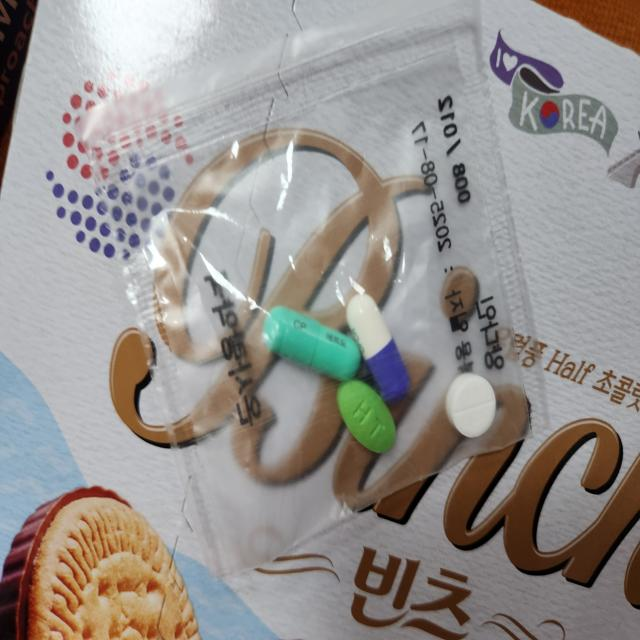러키펜정: (444, 373, 499, 441)
씨엠지세파클러캡슐: (344, 289, 410, 404)
에르도캡슐: (265, 308, 365, 384)
휴티렌정: (336, 379, 396, 458)
